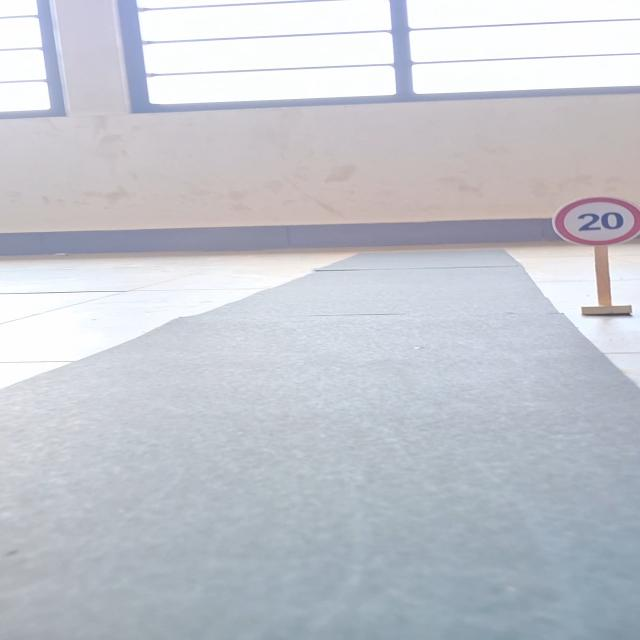Speed20: (539, 192, 640, 250)
